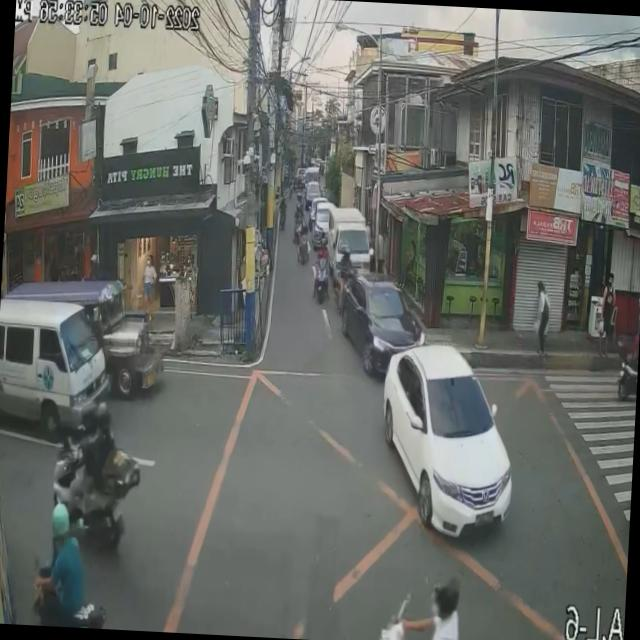full: (47, 501, 74, 540), (79, 401, 99, 437)
half: (428, 570, 466, 622), (98, 401, 114, 428)
